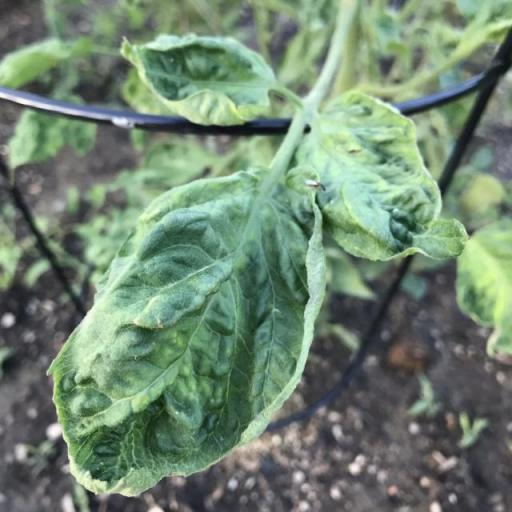disease_tomato: (42, 176, 328, 494), (301, 93, 470, 263), (118, 29, 278, 127)
